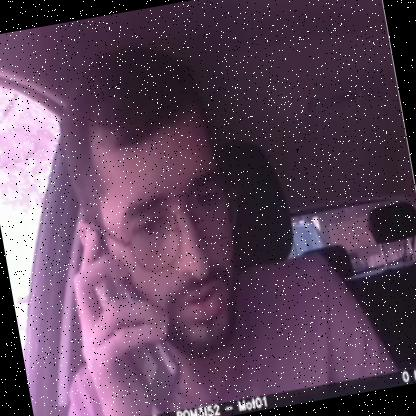phone: (65, 217, 191, 415)
